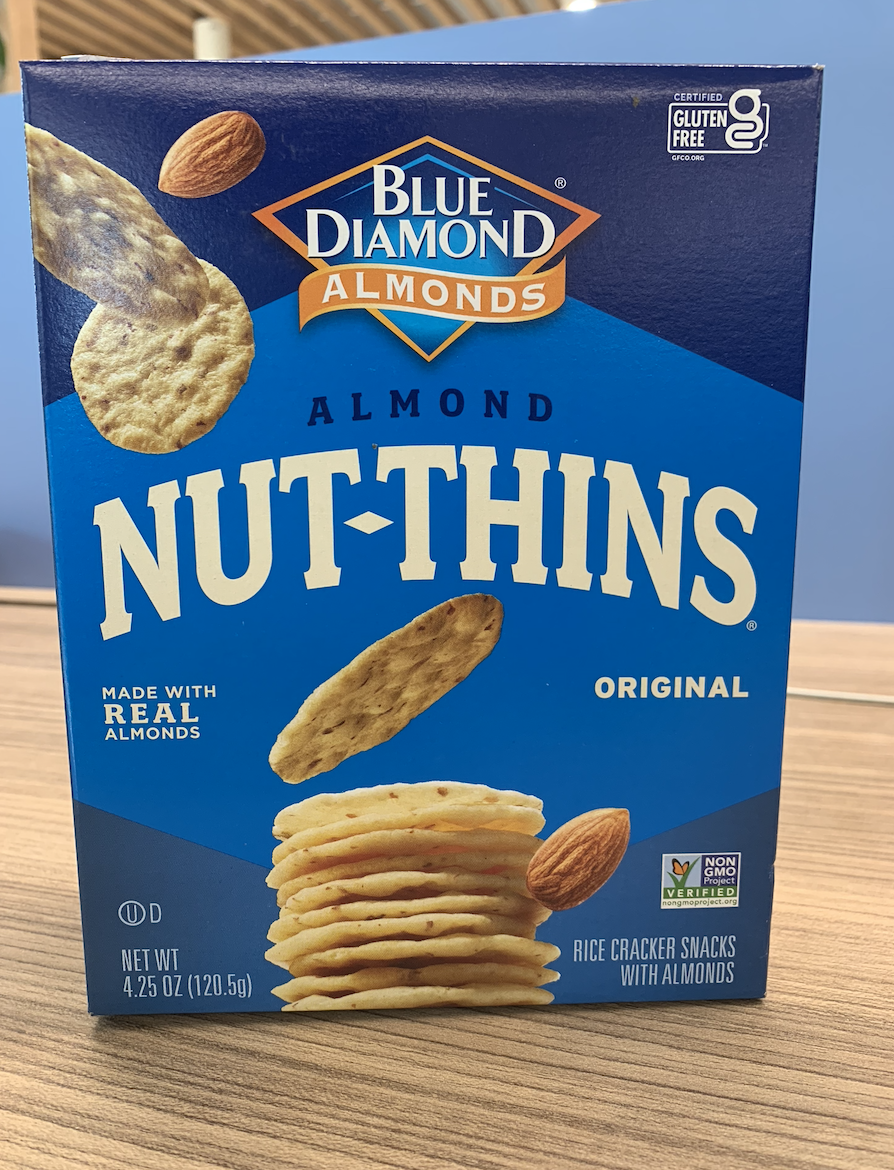crackers_100g-199g: (82, 77, 777, 997)
